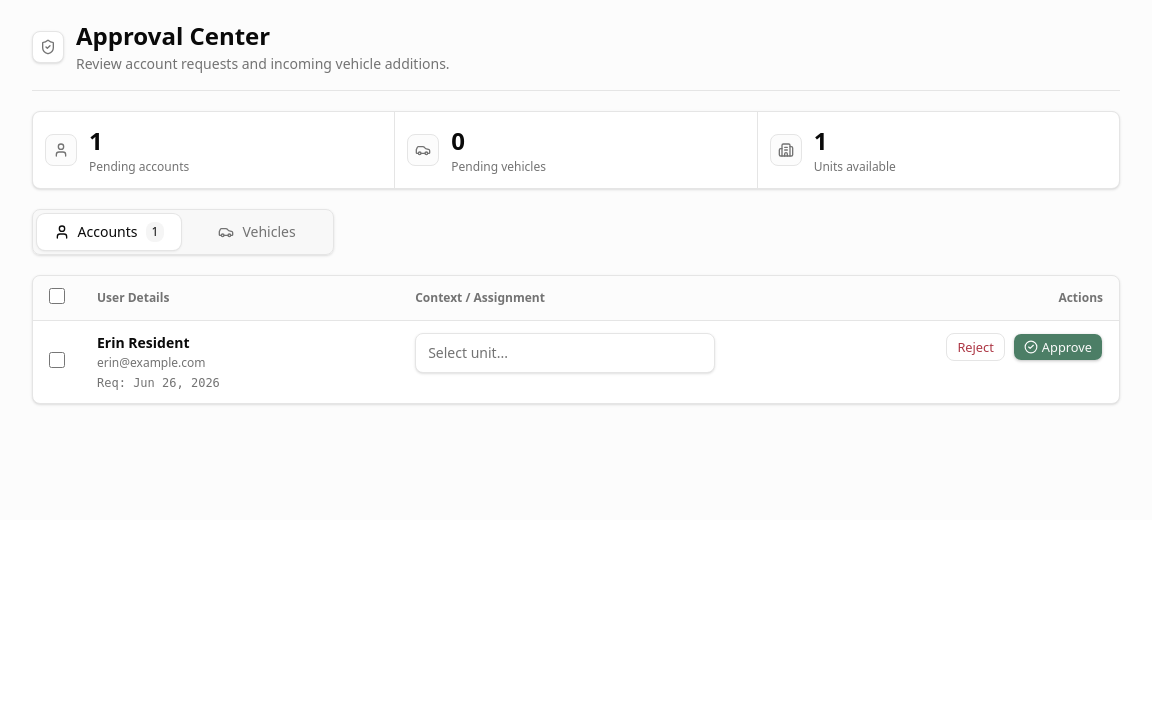
ApprovalsClient › removes a processed row from selection after individual approval
This screenshot has width=1152, height=720.
Click the checkbox named "Select Erin Resident".
click(57, 360)  # box [49, 352, 65, 368]
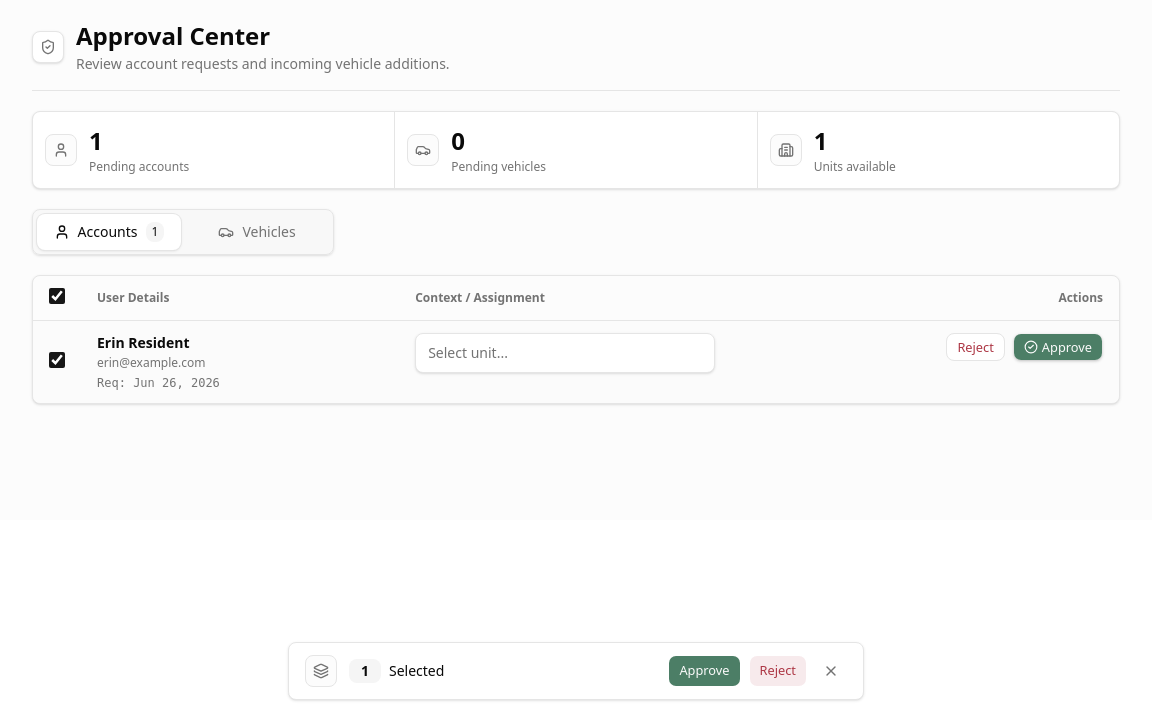
Check: the element named "Bulk approval selection" is shown, box [288, 642, 864, 700]
Click the button "Approve" in the row of "Erin Resident".
click(1058, 347)  # box [1013, 333, 1103, 361]
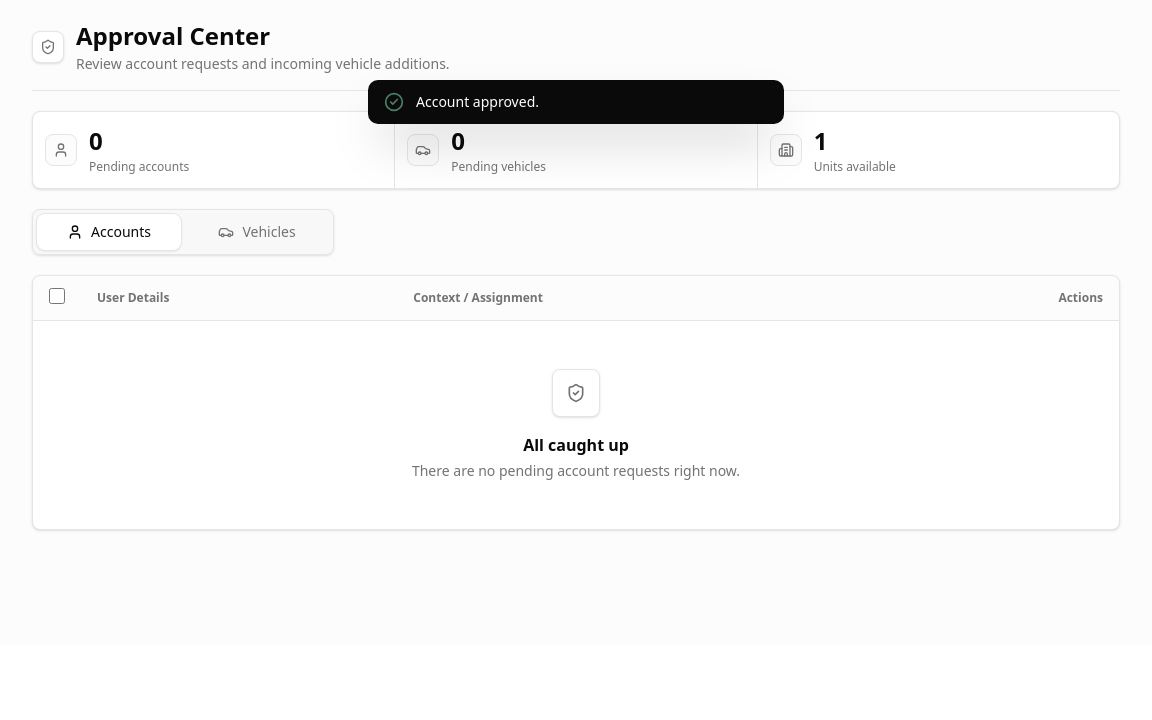
Check: the text "erin@example.com" is gone
